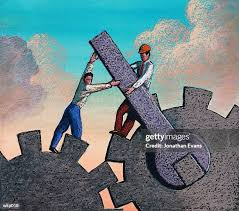Wrench: (89, 31, 209, 188)
